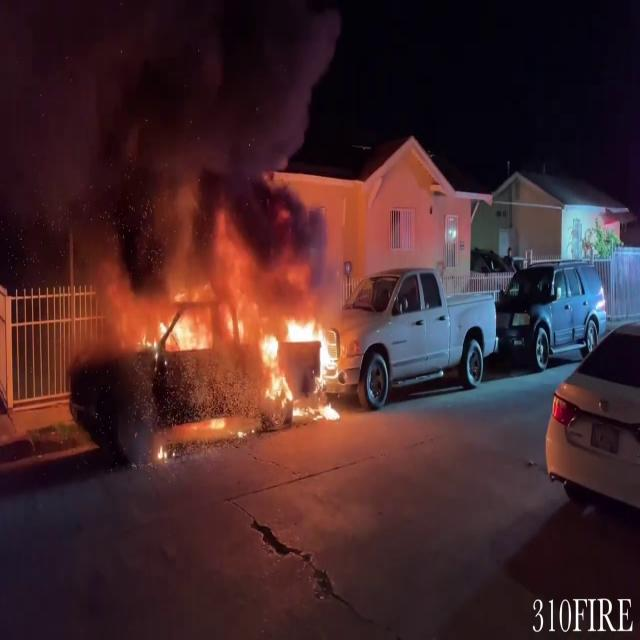Fire: (134, 280, 348, 420)
Smoke: (10, 0, 343, 310)
